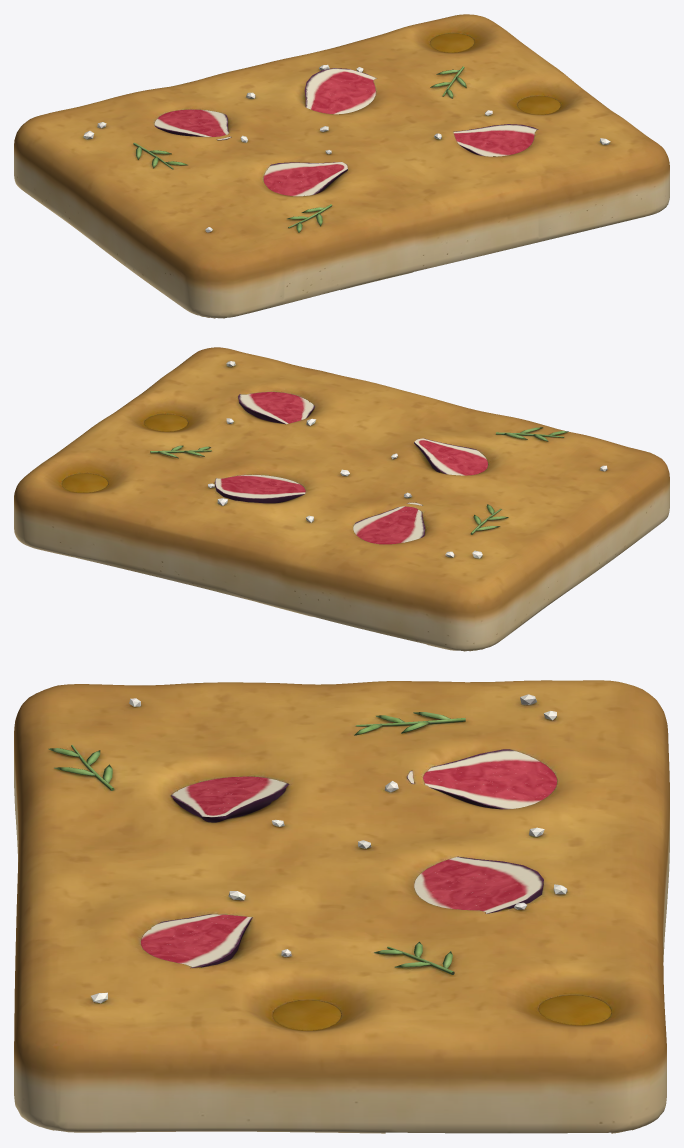
The model's file is focaccia--fig-fresh.glb.
3 renders of one model, top to bottom at view 1: azimuth 30°, elevation 25°; view 2: azimuth 150°, elevation 25°; view 3: azimuth 270°, elevation 25°, orthographic. The views are drawn at different scales.
Parts seen in each view (by area): view 1: focaccia_fig-fresh; view 2: focaccia_fig-fresh; view 3: focaccia_fig-fresh.
Part boxes in pixels (bbox=[...]): focaccia_fig-fresh: bbox=[14, 14, 669, 318]; focaccia_fig-fresh: bbox=[14, 347, 669, 651]; focaccia_fig-fresh: bbox=[14, 680, 669, 1133].
Bounding box in the file's own units: 1.01 × 0.1369 × 0.7441.
1 material, 1 textured.
